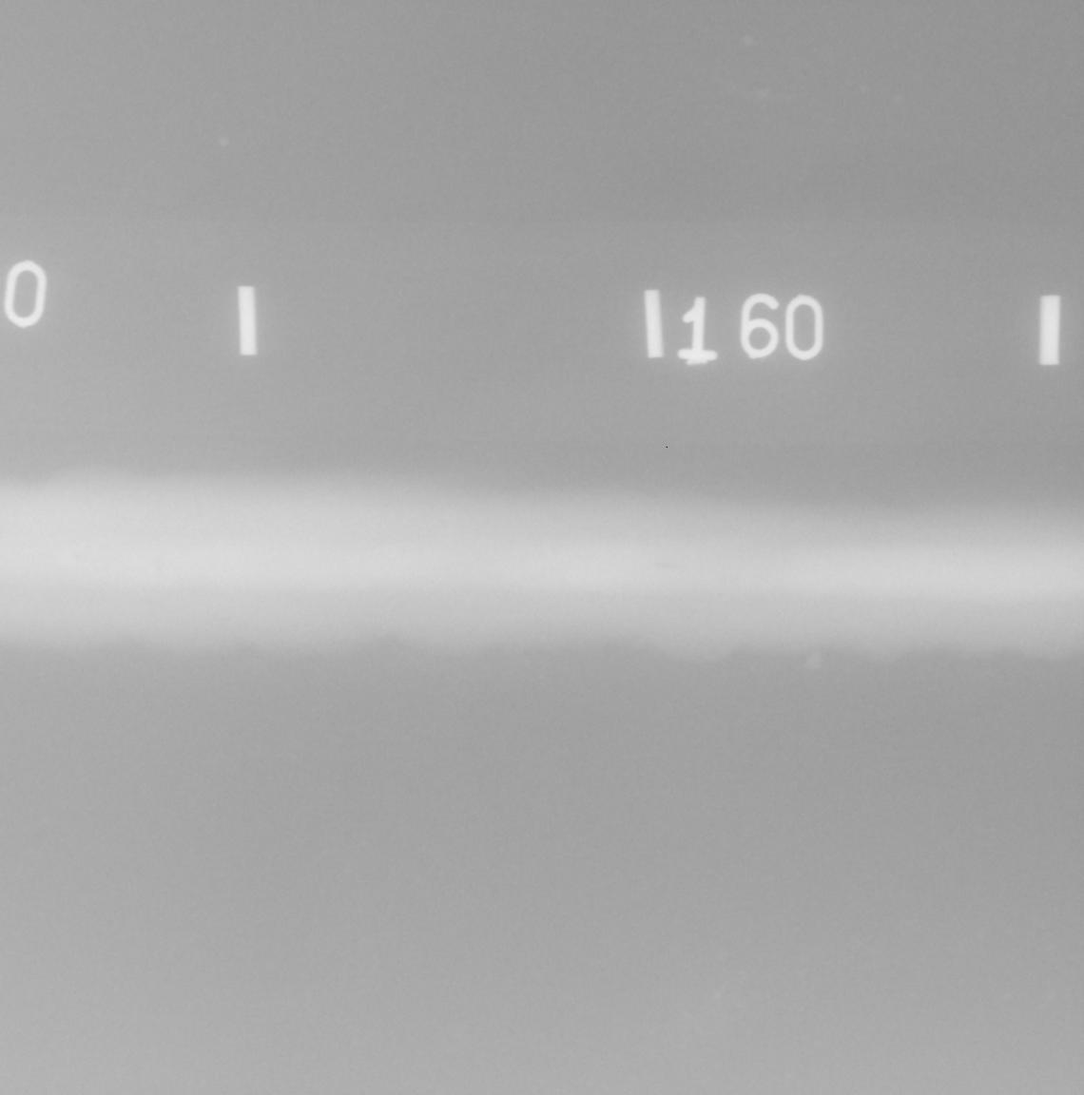Inclusion: (657, 563, 683, 567)
Pore/Porosity: (75, 554, 78, 558)
